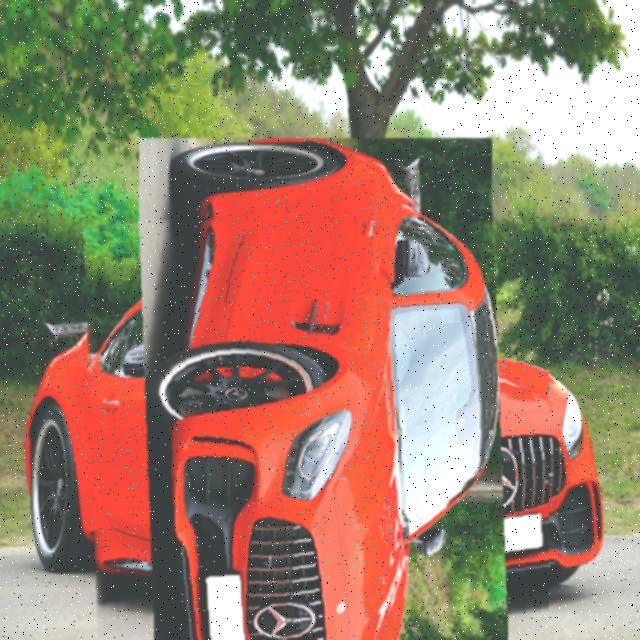car: (84, 195, 550, 640)
